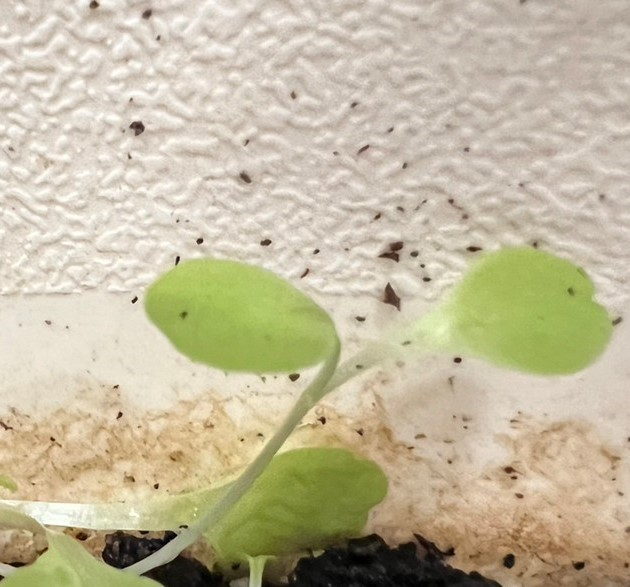week2: (304, 251, 618, 395), (117, 251, 331, 404)
